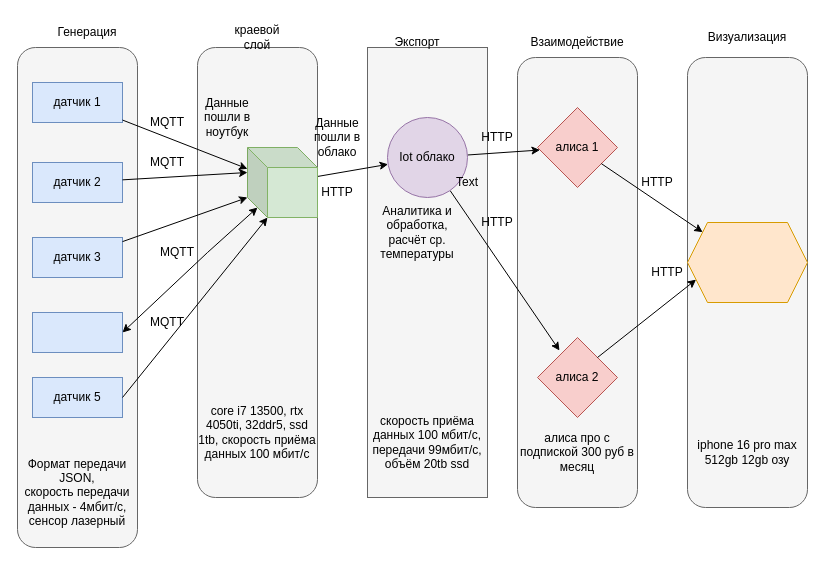
Some shapes in this 825 by 565 pixel diagram are drawn without their labels. Each missing label, with the centre of its shape:
"датчик 4" goes at (77,332).
"Ноутбук" goes at (282,182).
"Смартфон пользователя" goes at (747,262).
